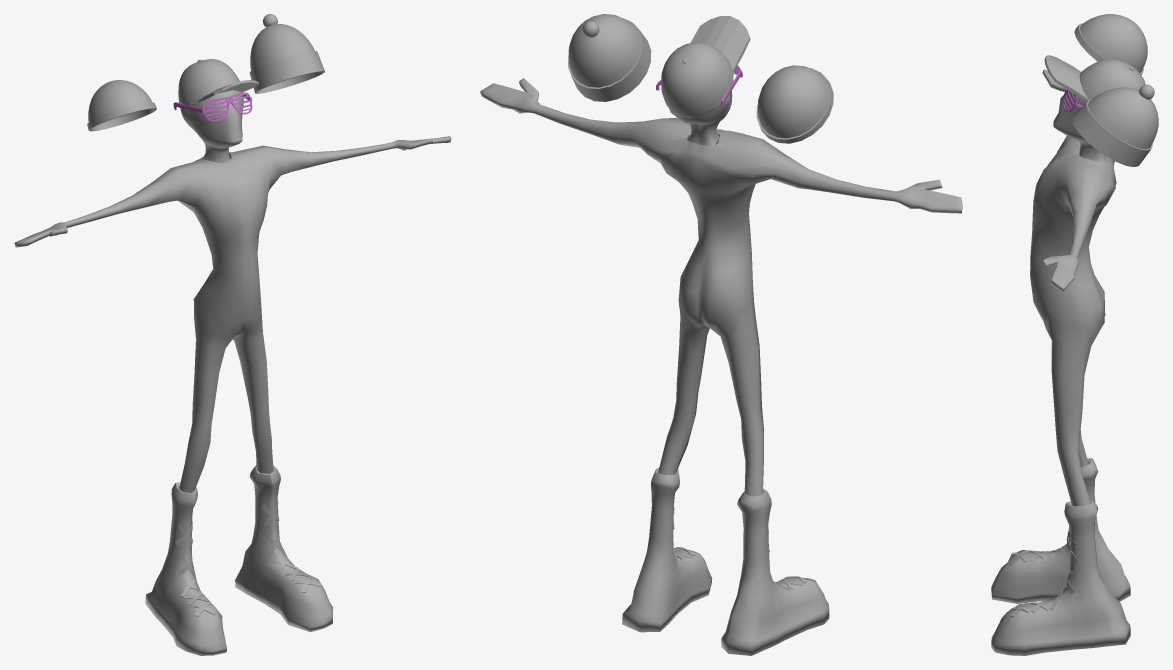
Rendered from Hipster3hats.fbx.
3 renders of one model, left to right at view 1: azimuth 30°, elevation 25°; view 2: azimuth 150°, elevation 25°; view 3: azimuth 270°, elevation 25°, orthographic. The views are drawn at different scales.
Visible parts, largest first — view 1: polySurface1, polySurface4, pSphere5, polySurface3, pSphere2, pSphere1, pCylinder3, pCube6, pCube7; view 2: polySurface1, polySurface4, pSphere1, pSphere5, pSphere2, polySurface3; view 3: polySurface1, polySurface4, pSphere5, pSphere2, pSphere1, polySurface3, pCube6, pCube7.
Part boxes in pixels (box(x1,y1,x2,y2)): polySurface1: box(14, 136, 451, 492); polySurface4: box(145, 465, 332, 655); pSphere5: box(249, 14, 324, 93); polySurface3: box(180, 90, 243, 162); pSphere2: box(87, 80, 156, 131); pSphere1: box(178, 59, 258, 105); pCylinder3: box(173, 92, 252, 121); pCube6: box(261, 500, 321, 592); pCube7: box(175, 522, 215, 616); polySurface1: box(480, 78, 962, 496); polySurface4: box(622, 468, 829, 655); pSphere1: box(661, 16, 750, 117); pSphere5: box(568, 14, 651, 101); pSphere2: box(756, 65, 833, 143); polySurface3: box(669, 81, 733, 146); polySurface1: box(1030, 69, 1116, 506); polySurface4: box(991, 458, 1130, 655); pSphere5: box(1072, 84, 1158, 166); pSphere2: box(1074, 14, 1147, 74); pSphere1: box(1044, 55, 1145, 100); polySurface3: box(1053, 91, 1105, 161); pCube6: box(1009, 540, 1077, 617); pCube7: box(1010, 527, 1070, 565).
Bounding box in the file's own units: 186 × 226 × 59.84.
